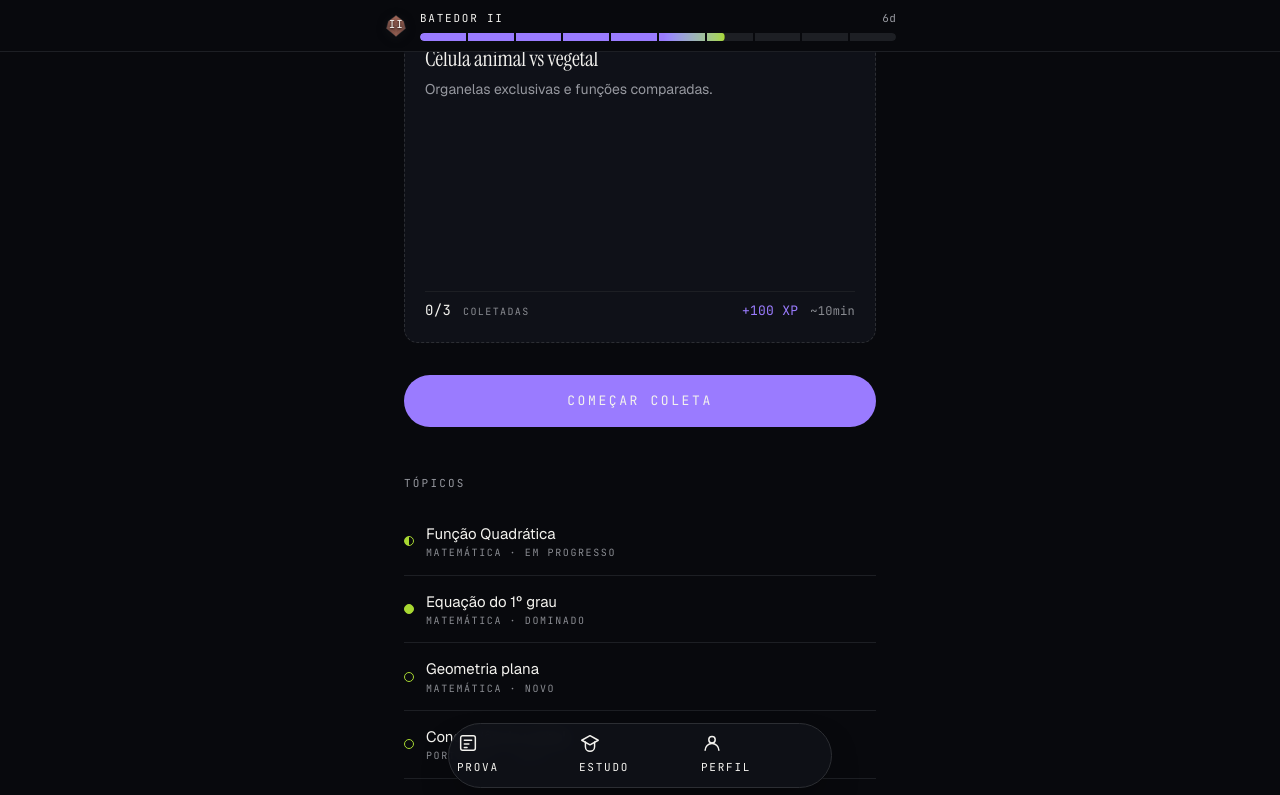
Scenario: EstudoPage (integration) › shows debrief after the last card
(page scrolled)
Click the button "Começar coleta": (640, 401) top-left (404, 375), bottom-right (876, 427)
(page scrolled)
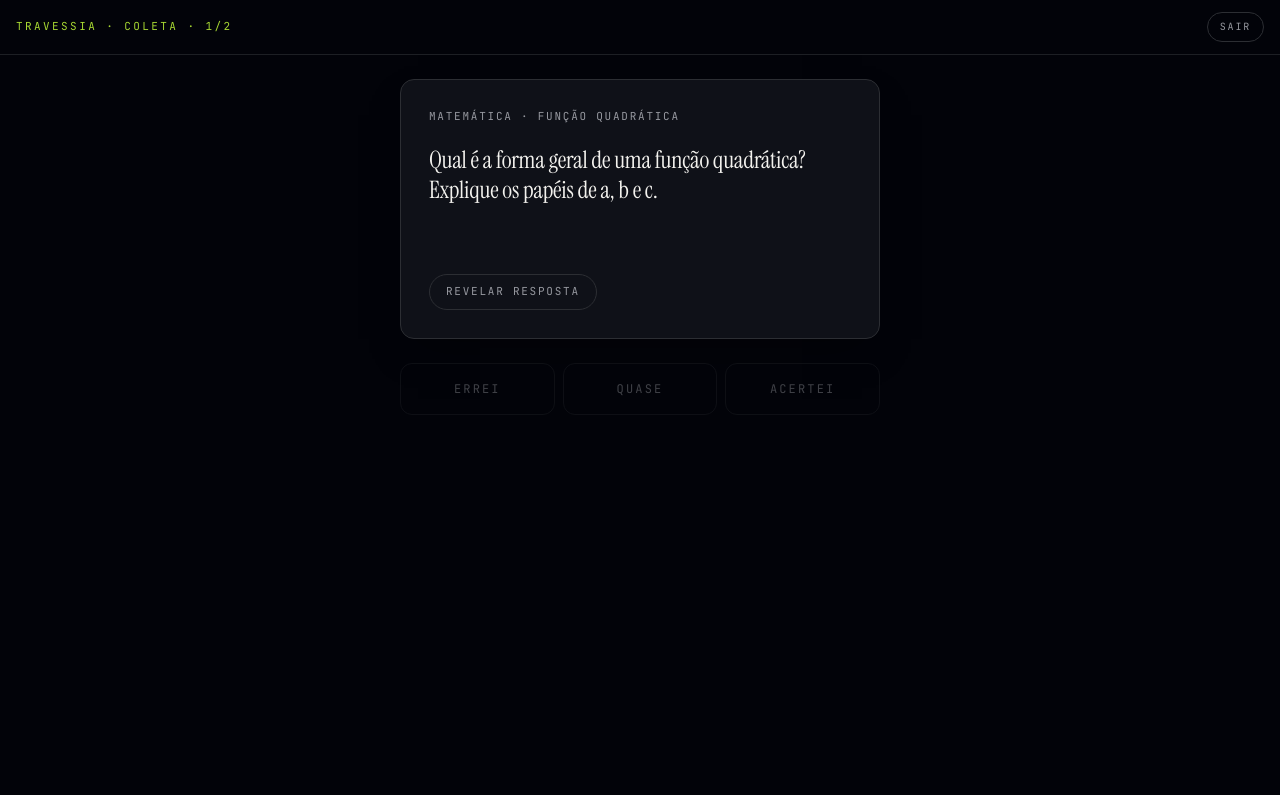
Result: the button "Revelar resposta" is shown
Click the button "Revelar resposta": (513, 292) top-left (429, 274), bottom-right (597, 310)
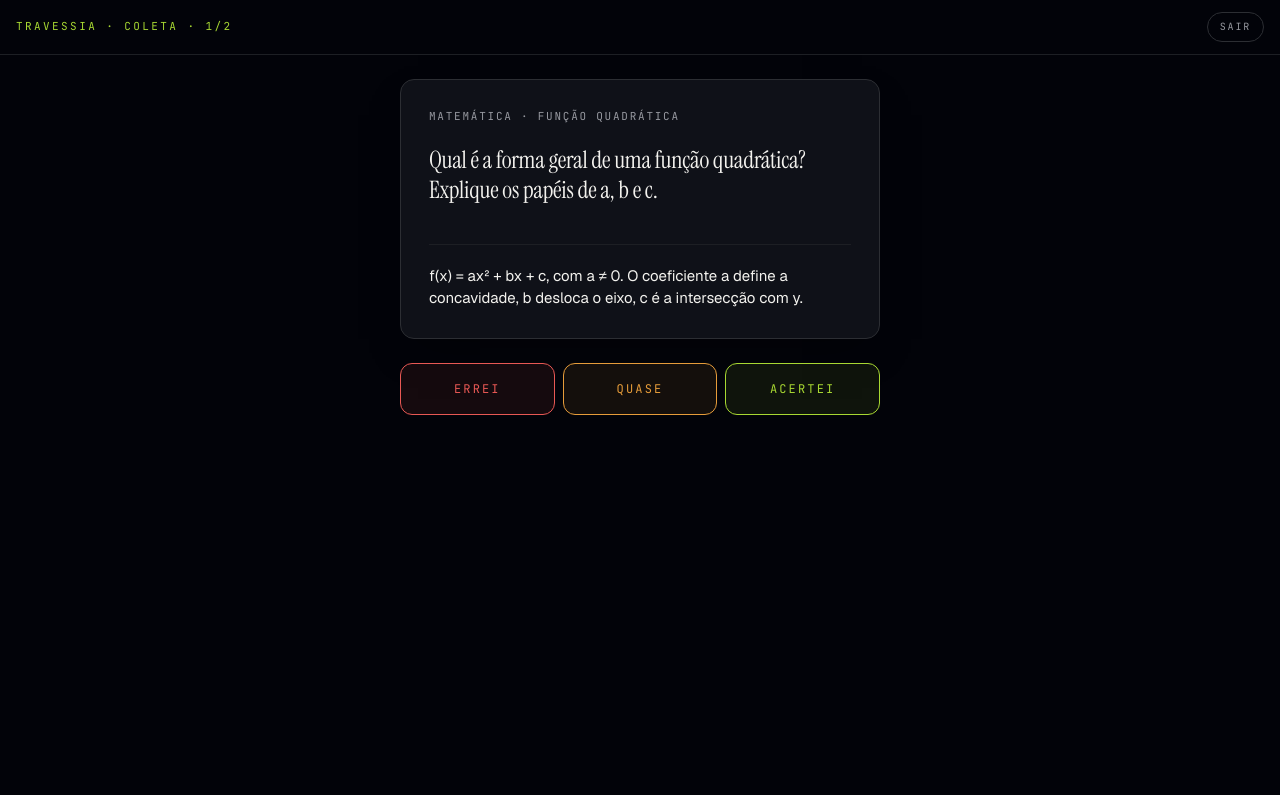
Click the button "acertei": (803, 389) top-left (725, 362), bottom-right (880, 415)
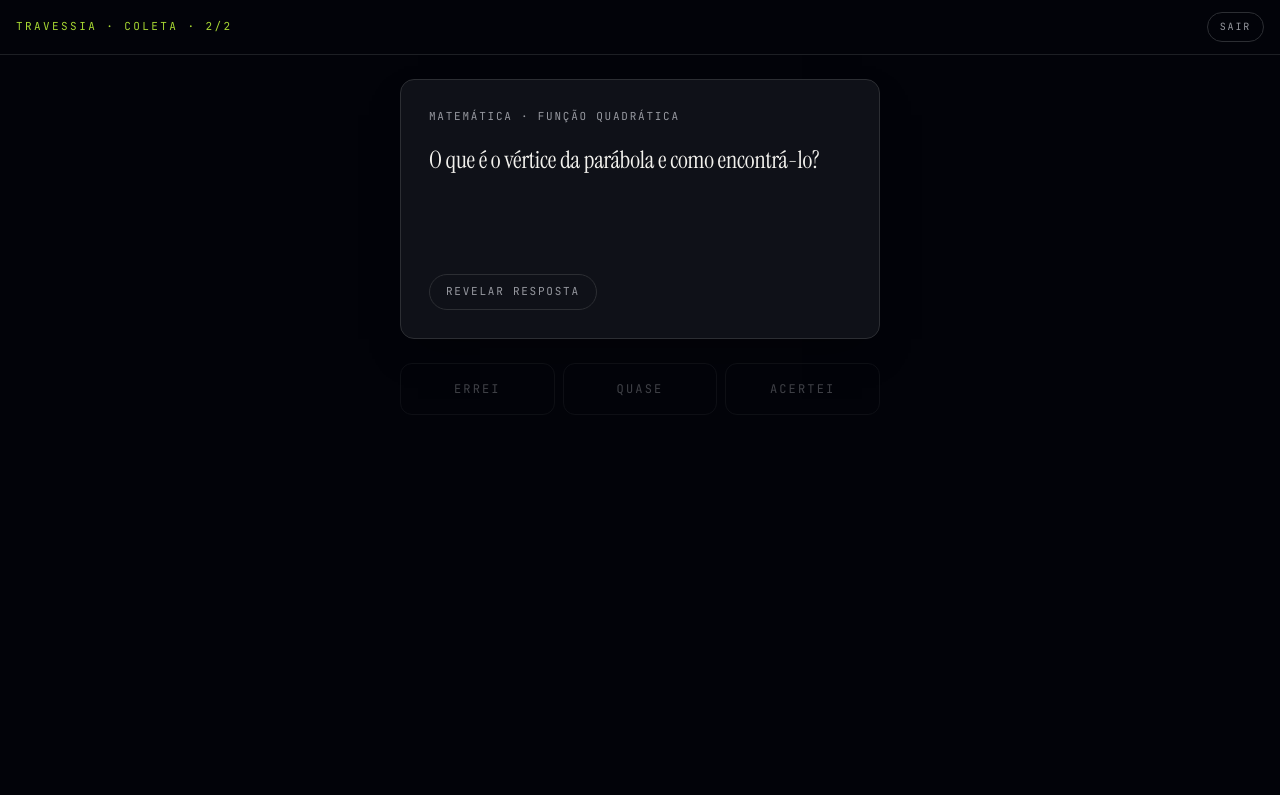
Result: the button "Revelar resposta" is shown
Click the button "Revelar resposta": (513, 292) top-left (429, 274), bottom-right (597, 310)
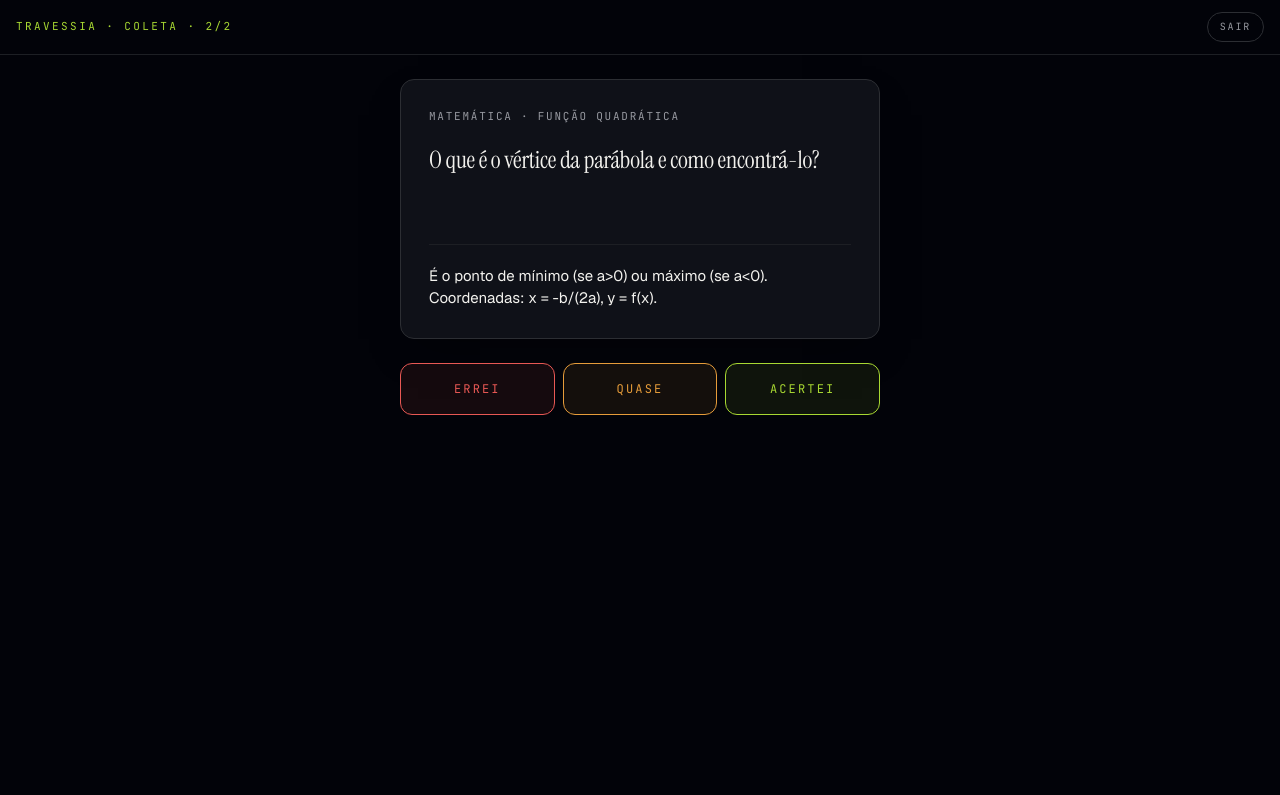
Click the button "acertei": (803, 389) top-left (725, 362), bottom-right (880, 415)
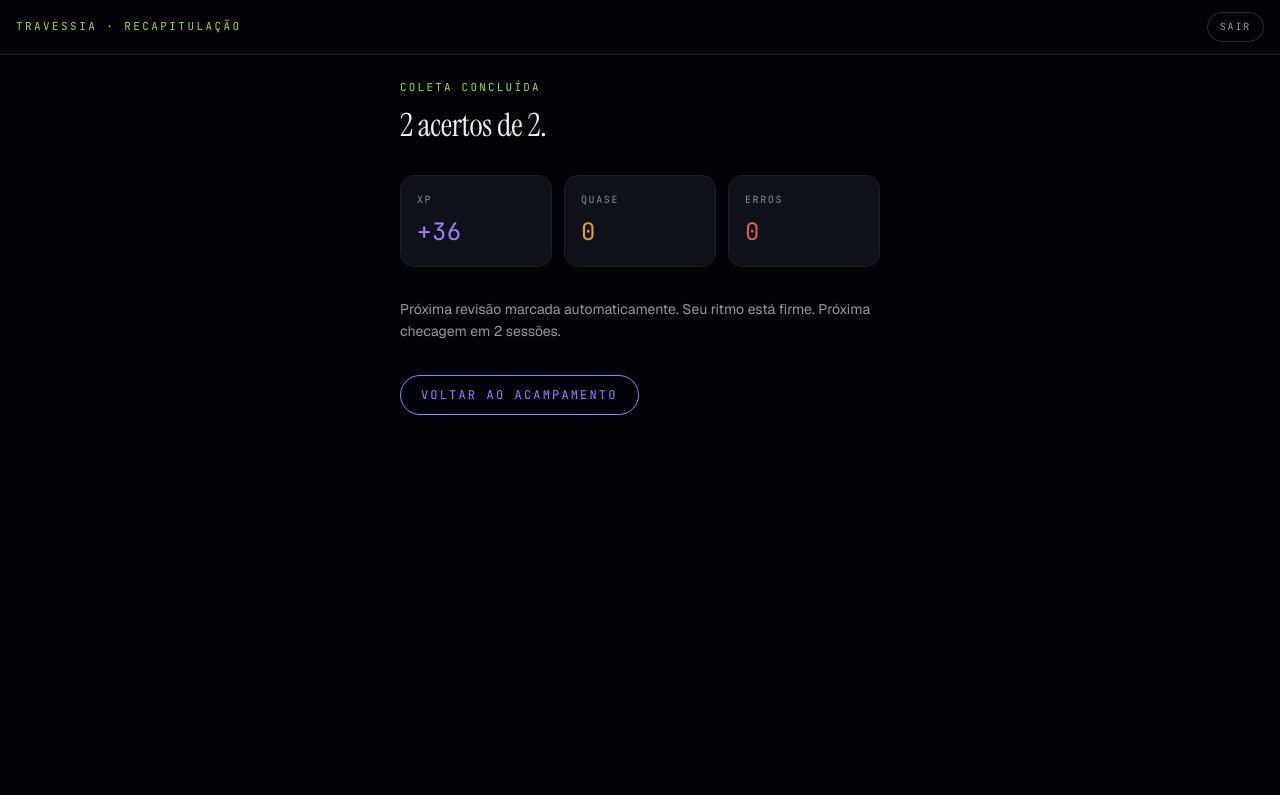
Result: the text "Coleta concluída" is shown at top-left (400, 80), bottom-right (541, 94)
Result: the heading "2 acertos de 2." is shown at top-left (400, 104), bottom-right (546, 146)
